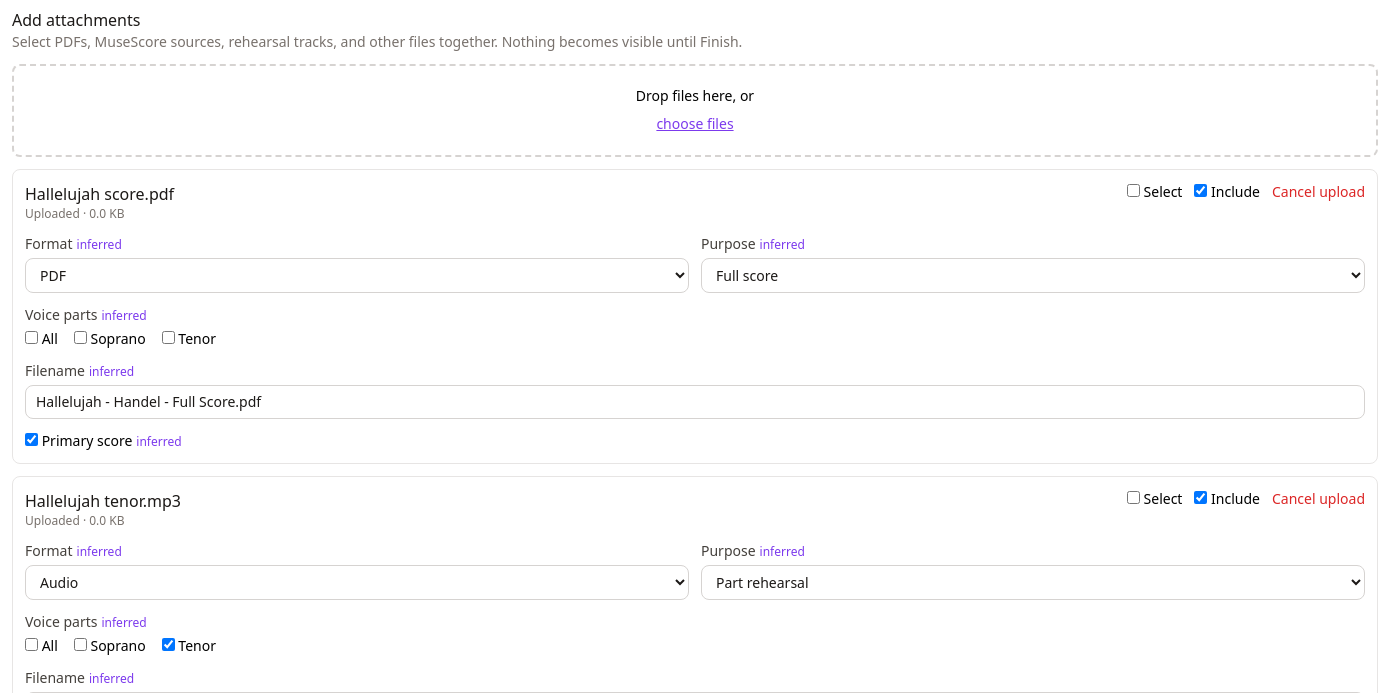
AttachmentBatchReview › applies bulk purpose and voice-part edits to selected review rows
Click the checkbox labelled "Select" in the row of "Hallelujah score.pdf": (1133,190) 1127,184 -> 1140,197
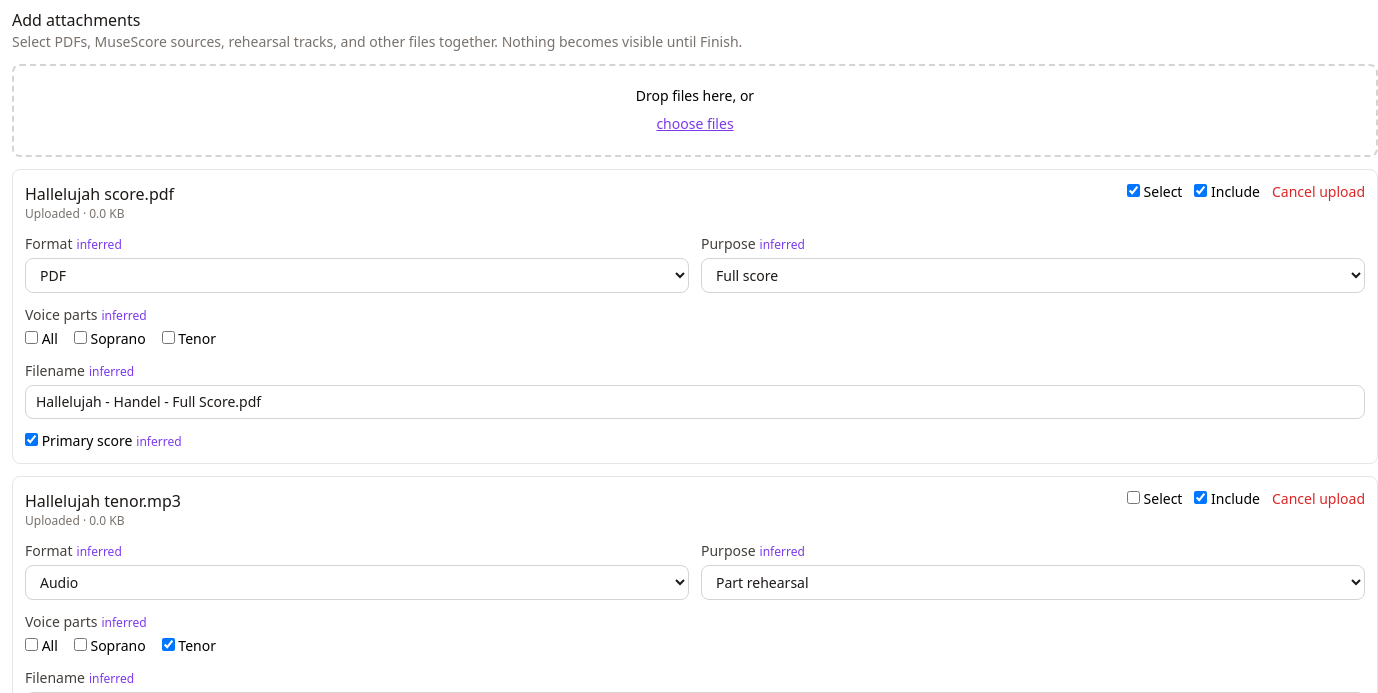
Click the checkbox labelled "Select" in the row of "Hallelujah tenor.mp3": (1133,498) 1127,491 -> 1140,504
(page scrolled)
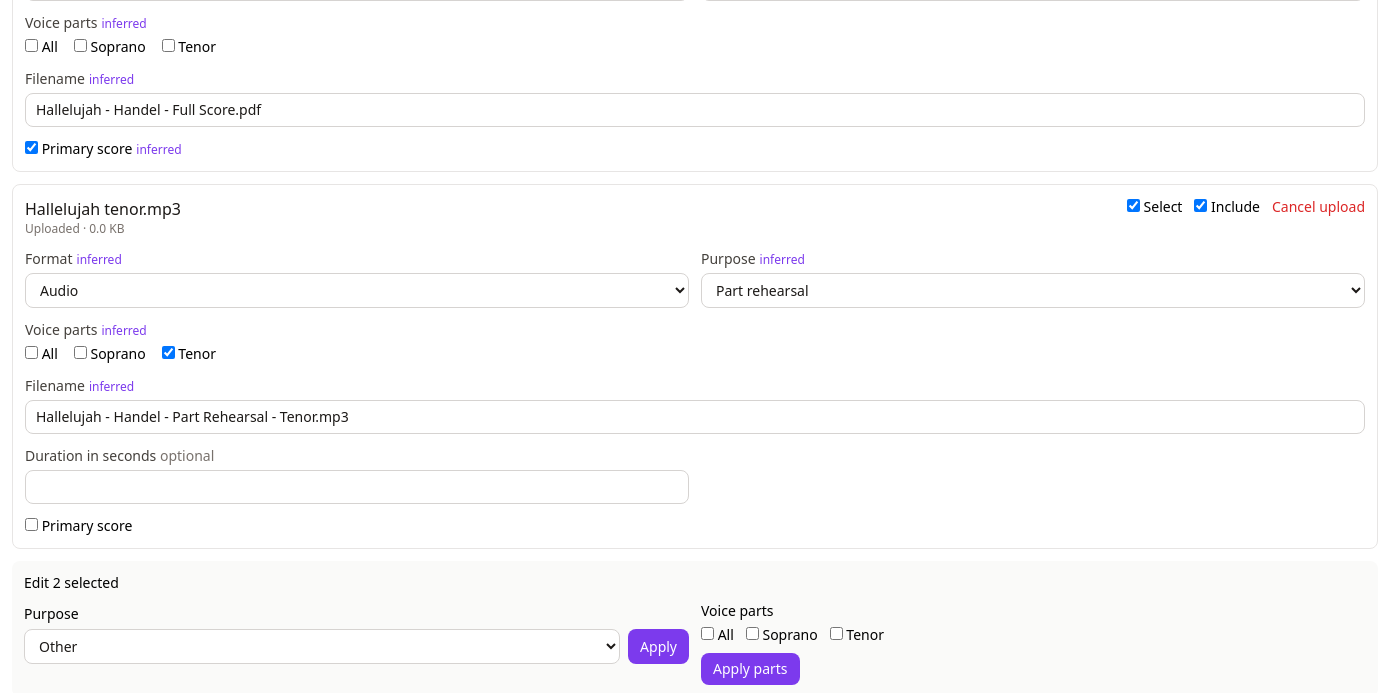
Select "Other" in the dropdown labelled "Purpose": (322,646) 24,629 -> 620,664
Click the button "Apply": (659,646) 628,629 -> 689,664
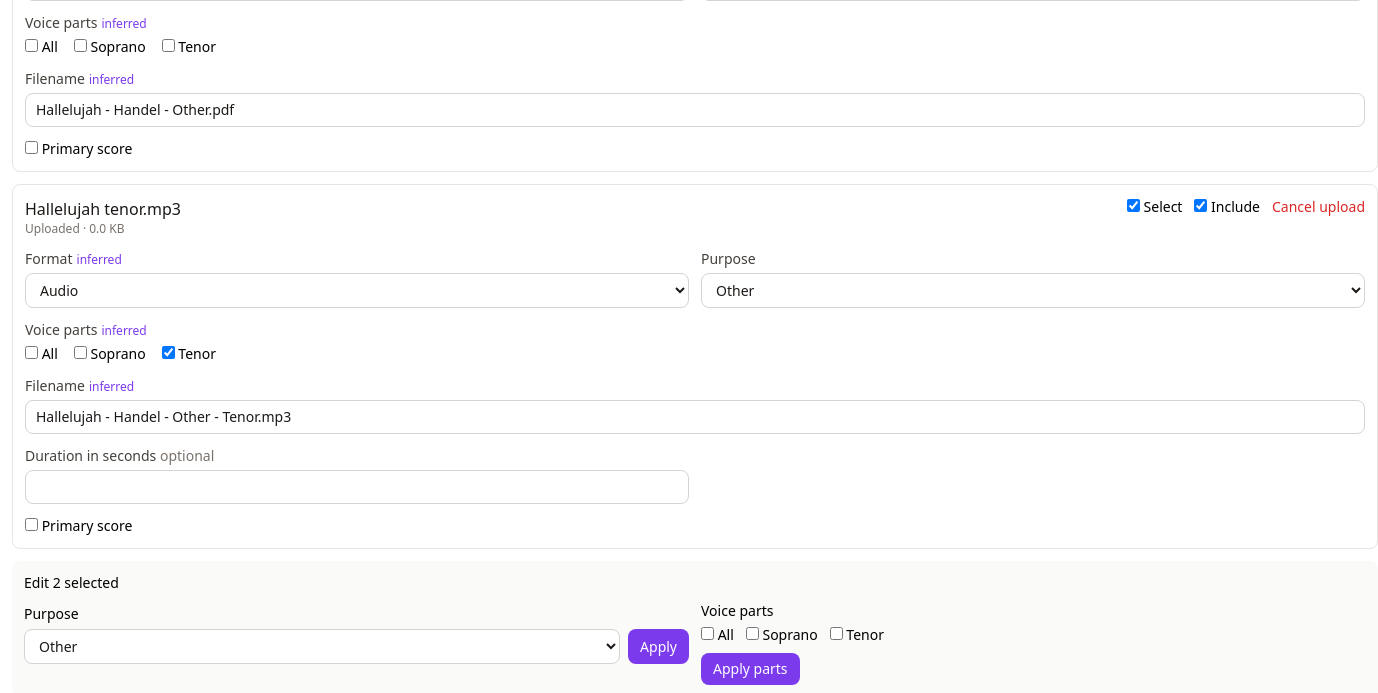
expect the dropdown named "Purpose for Hallelujah tenor.mp3" shows "Other": met, box 701,273 -> 1365,308
Click the 3rd checkbox labelled "Tenor": (836,634) 830,627 -> 843,640
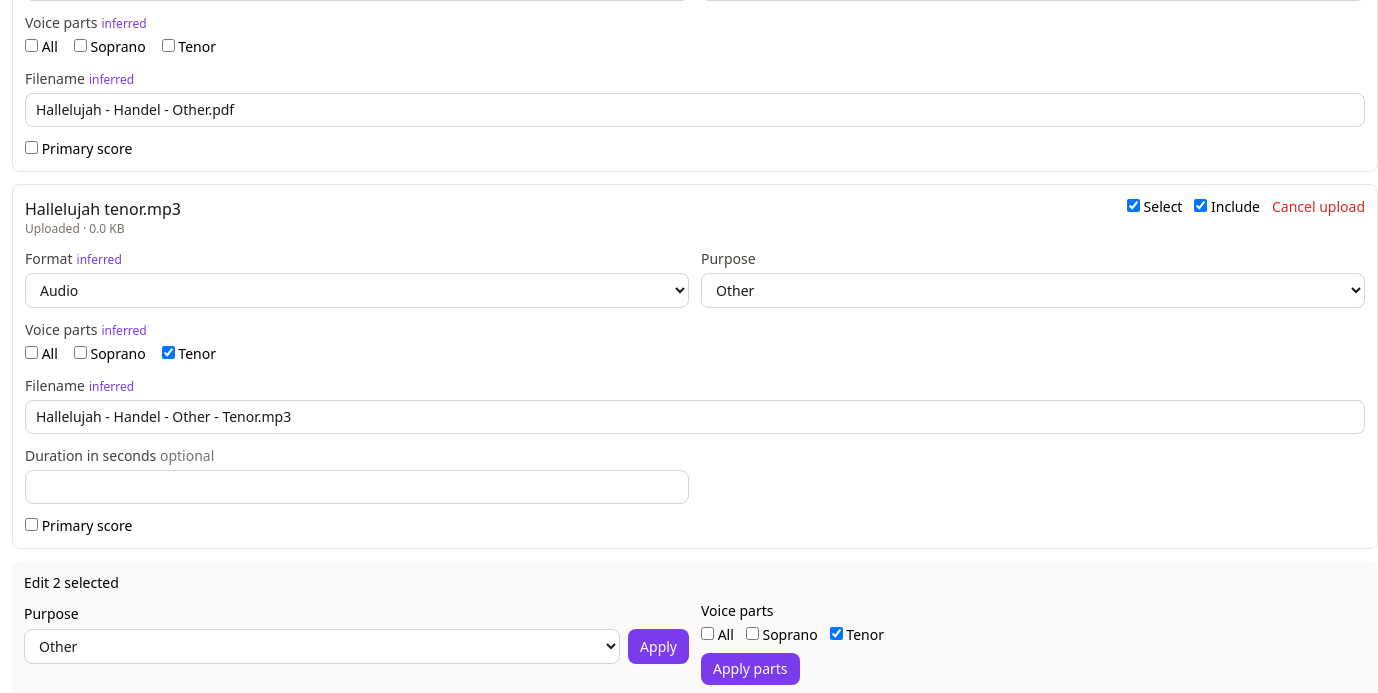
Click the button "Apply parts": (750,669) 701,653 -> 800,685
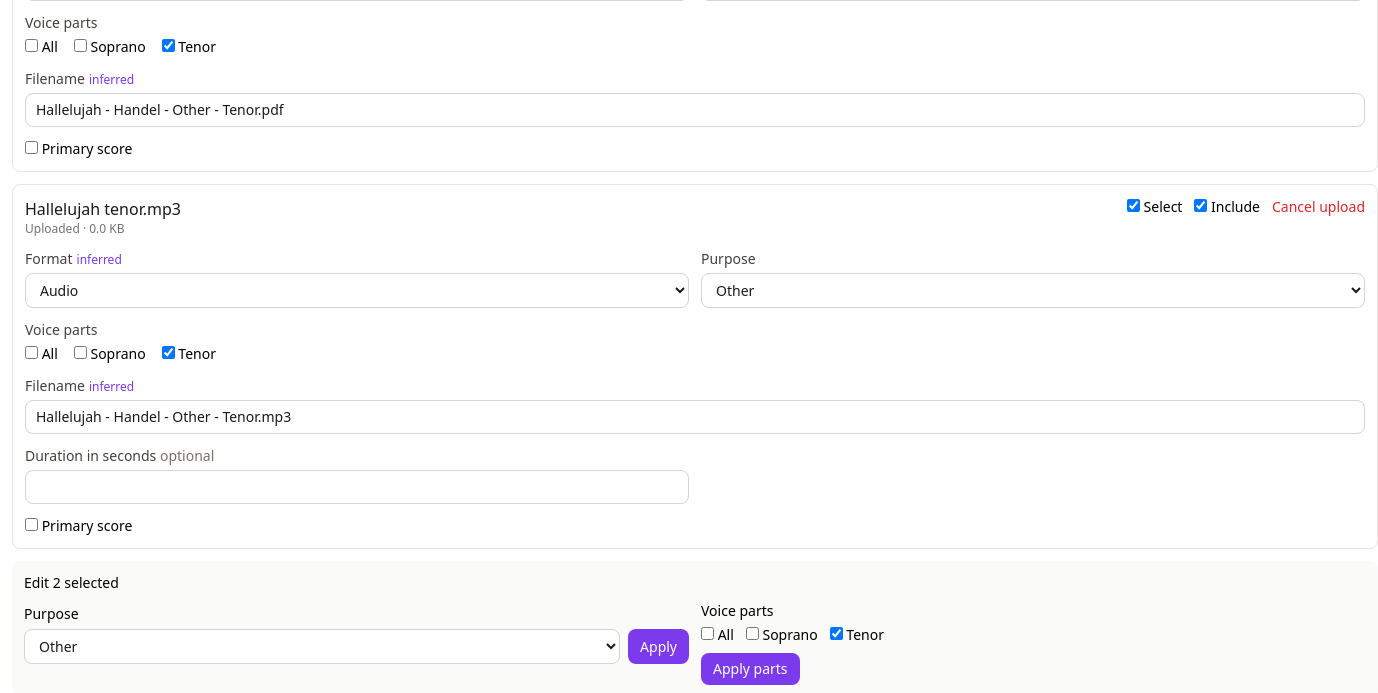
expect the checkbox labelled "Tenor" below "Hallelujah tenor.mp3" is checked: met, box 162,346 -> 175,359
expect the checkbox labelled "Tenor" below "Hallelujah score.pdf" is checked: met, box 162,39 -> 175,52
